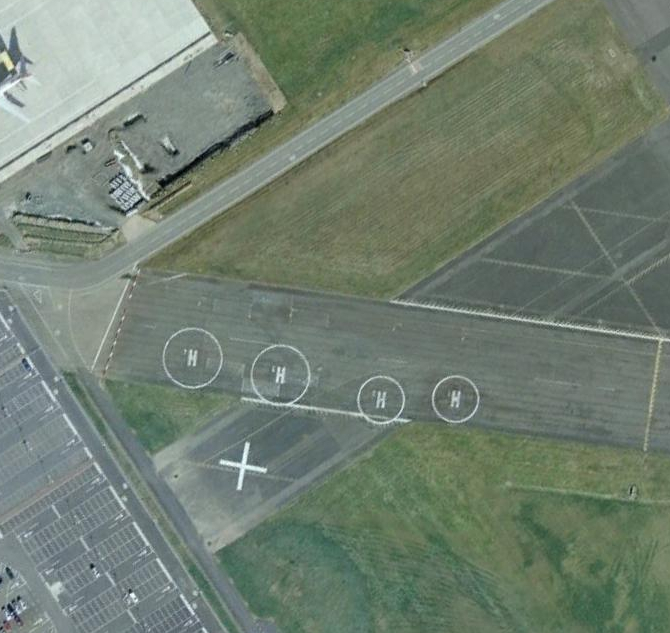heliport: (185, 345, 199, 370), (373, 386, 387, 411), (449, 385, 462, 411), (274, 363, 287, 386)
